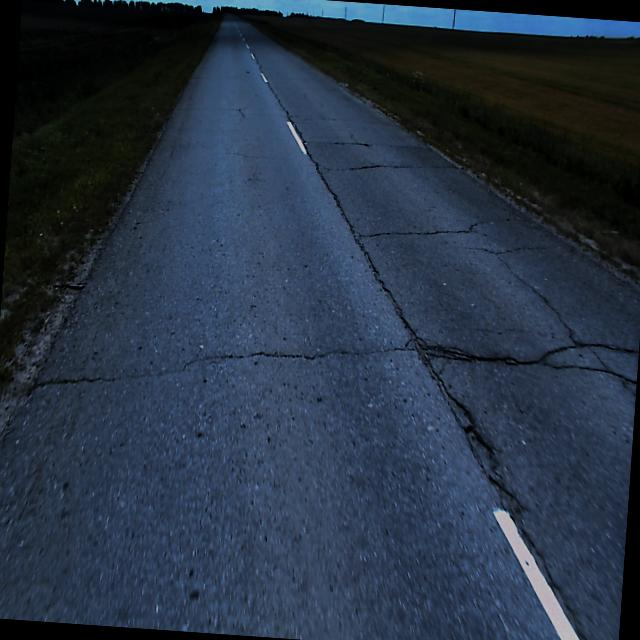road: (0, 13, 640, 640)
